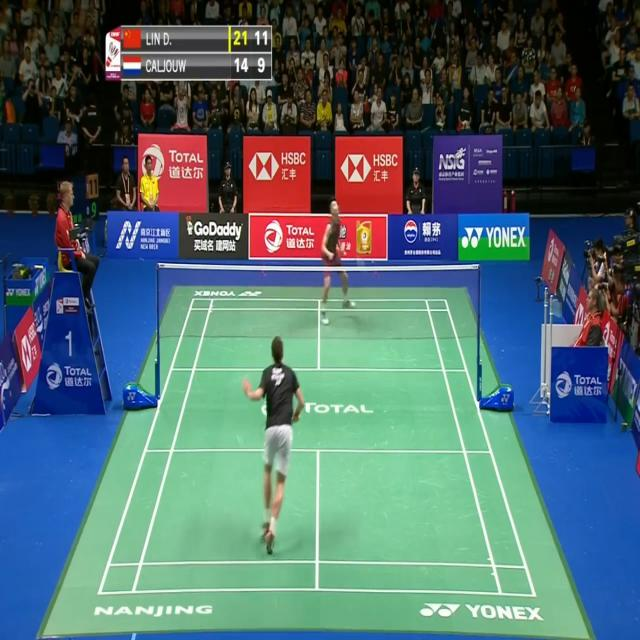Player1: (245, 340, 307, 566)
Player2: (318, 199, 358, 325)
